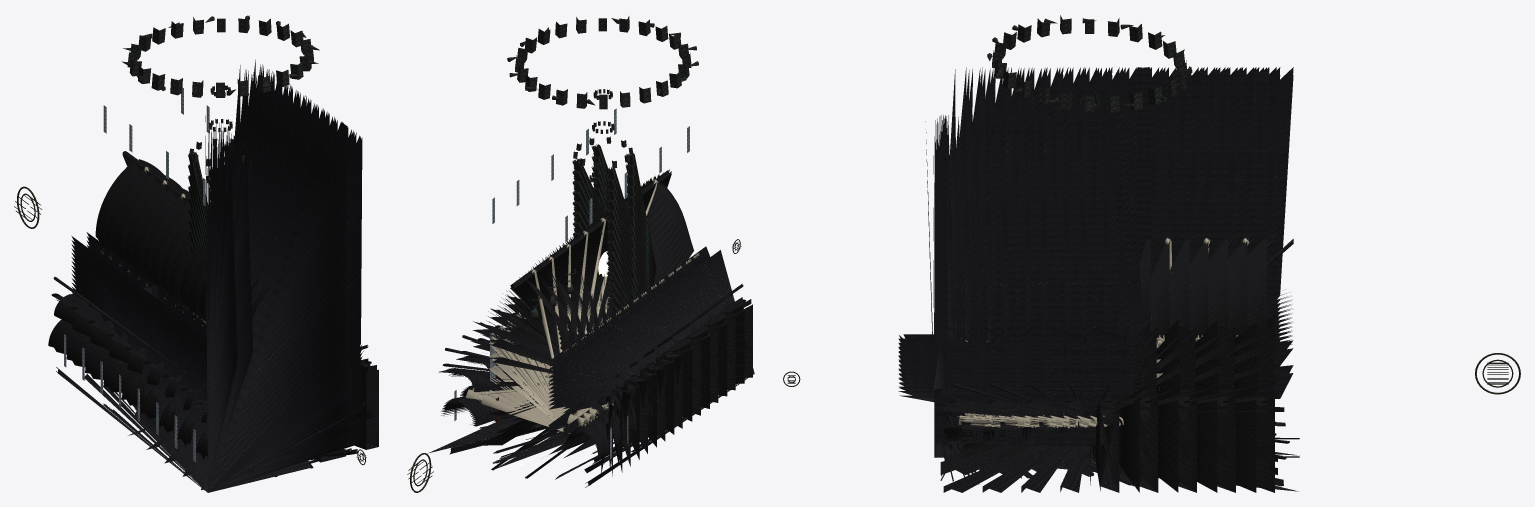
Rendered from cathedral_step5.glb.
3 renders of one model, left to right at view 1: azimuth 30°, elevation 25°; view 2: azimuth 150°, elevation 25°; view 3: azimuth 270°, elevation 25°, orthographic. The views are drawn at different scales.
Visible parts, largest first — view 1: SunderedChoir; view 2: SunderedChoir; view 3: SunderedChoir.
Part boxes in pixels (left/top/right/bottom): SunderedChoir: left=14, top=15, right=378, bottom=492; SunderedChoir: left=407, top=16, right=754, bottom=492; SunderedChoir: left=783, top=15, right=1520, bottom=492.
Bounding box in the file's own units: 140 × 307 × 474.
Materials: 15 (14 with a texture image).
